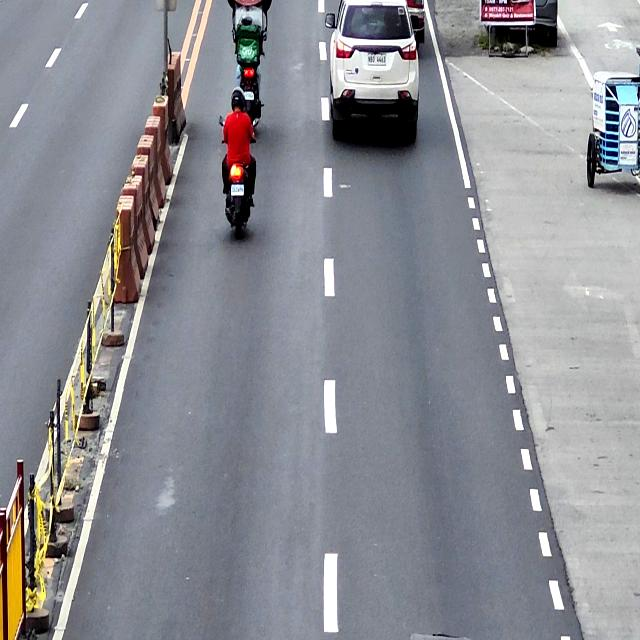Car: (324, 0, 422, 145)
License-Plate: (366, 52, 386, 66), (231, 184, 244, 196), (242, 91, 255, 101)
Motorcycle: (217, 113, 259, 239), (232, 20, 266, 128)
